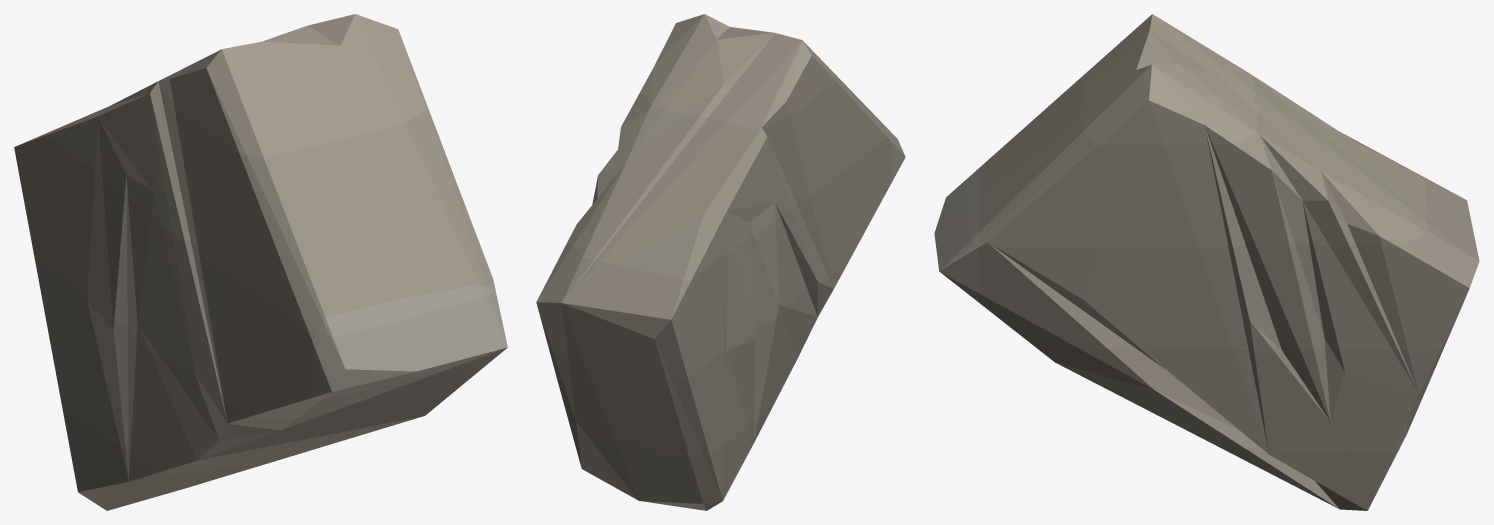
The model's file is YN_RockPlate14.fbx.
3 views of the same model, side by side, from view 1: azimuth 30°, elevation 25°; view 2: azimuth 150°, elevation 25°; view 3: azimuth 270°, elevation 25° (orthographic). The views are drawn at different scales.
Visible parts, largest first — view 1: RockPlate14; view 2: RockPlate14; view 3: RockPlate14.
Boxes of the visible parts, box(x1,y1,x2,y2) form: RockPlate14: box(14, 14, 507, 510); RockPlate14: box(536, 14, 905, 510); RockPlate14: box(934, 14, 1479, 510).
Size of the model in its own units: 0.4677 by 1.25 by 1.35.
